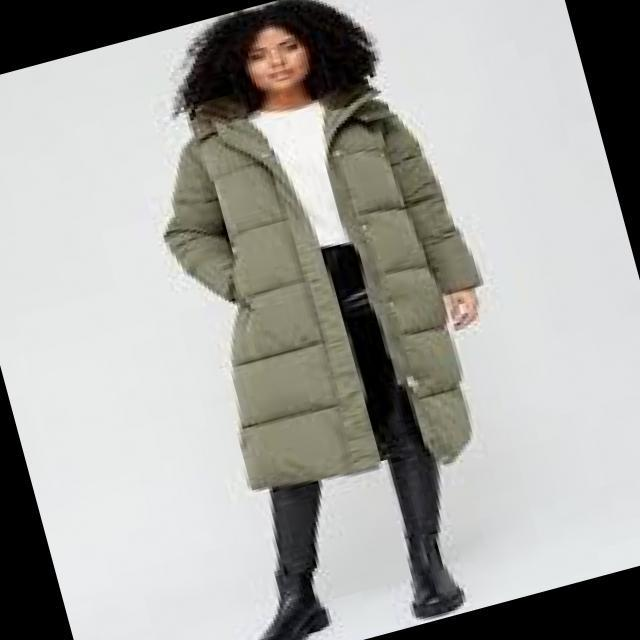coat: (158, 83, 486, 498)
sweater: (247, 94, 353, 252)
trousers: (267, 241, 443, 575)
